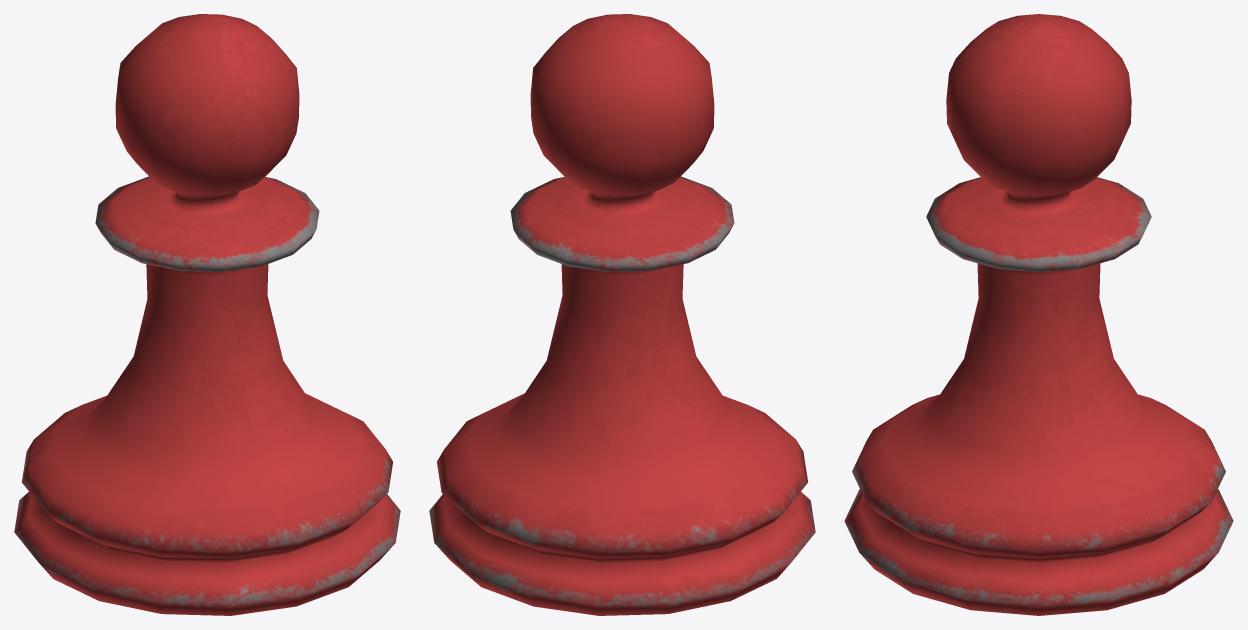
File: pawn.glb
3 renders of one model, left to right at view 1: azimuth 30°, elevation 25°; view 2: azimuth 150°, elevation 25°; view 3: azimuth 270°, elevation 25°, orthographic.
Parts seen in each view (by area): view 1: pawn.b.001; view 2: pawn.b.001; view 3: pawn.b.001.
Boxes of the visible parts, x1=… form: pawn.b.001: x1=14, y1=14, x2=400, y2=615; pawn.b.001: x1=429, y1=14, x2=815, y2=615; pawn.b.001: x1=844, y1=14, x2=1233, y2=615.
Size of the model in its own units: 1.13 by 1.71 by 1.13.
Materials: 1 (1 with a texture image).
